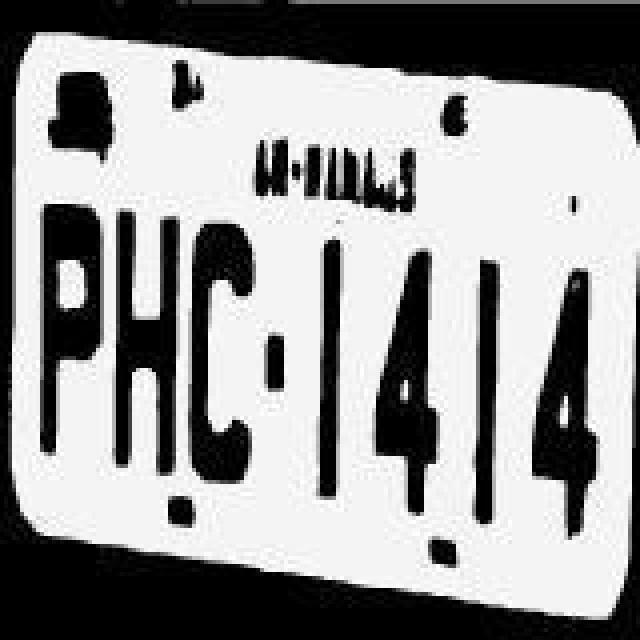1: (304, 230, 360, 514), (460, 260, 516, 532)
4: (370, 232, 454, 520), (528, 254, 608, 546)
C: (186, 222, 262, 490)
H: (104, 194, 184, 486)
P: (30, 182, 106, 474)
